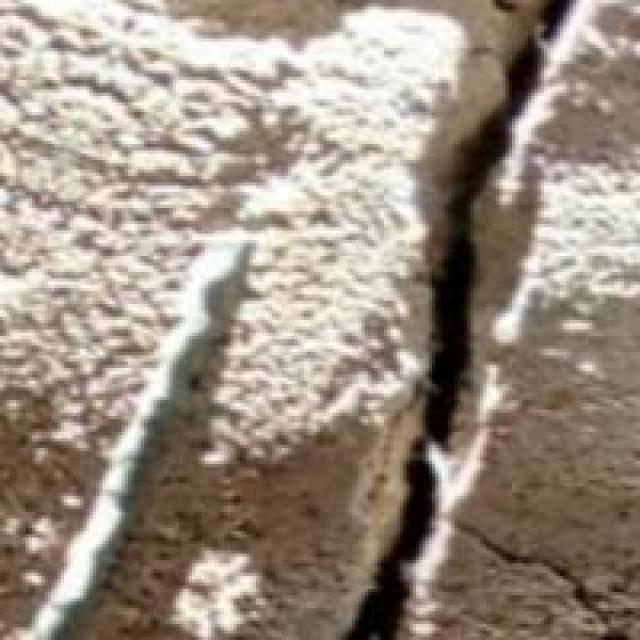Crack: (330, 3, 605, 637)
